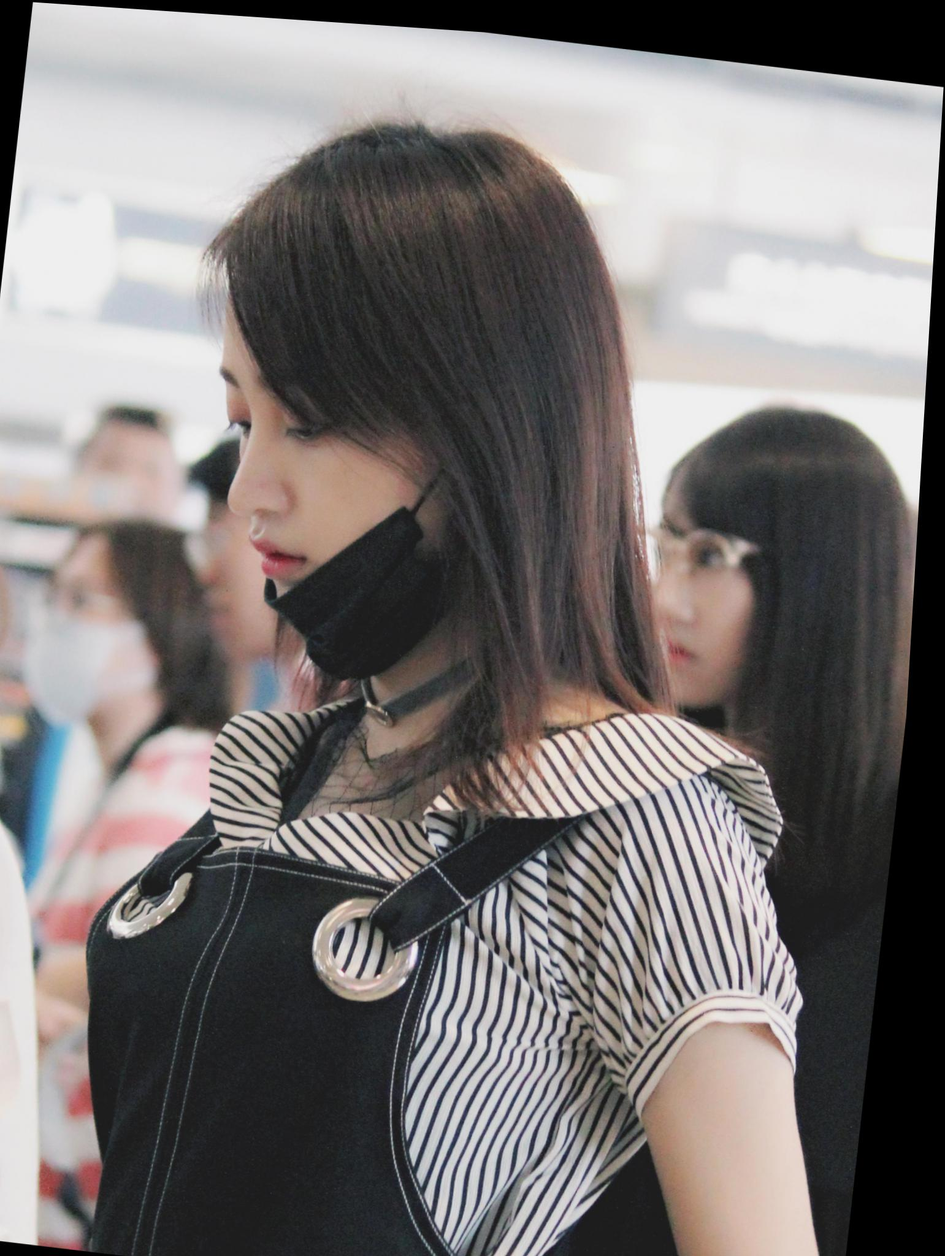NONE: (630, 500, 810, 705)
OK: (16, 570, 166, 736)
WRONG: (201, 312, 481, 663)
